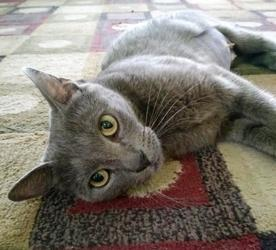rblue: (8, 64, 172, 231)
